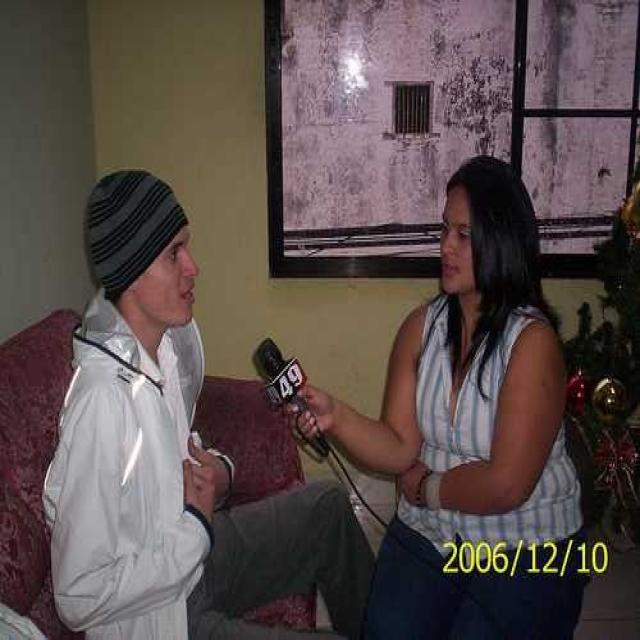microphone: (253, 339, 326, 454)
